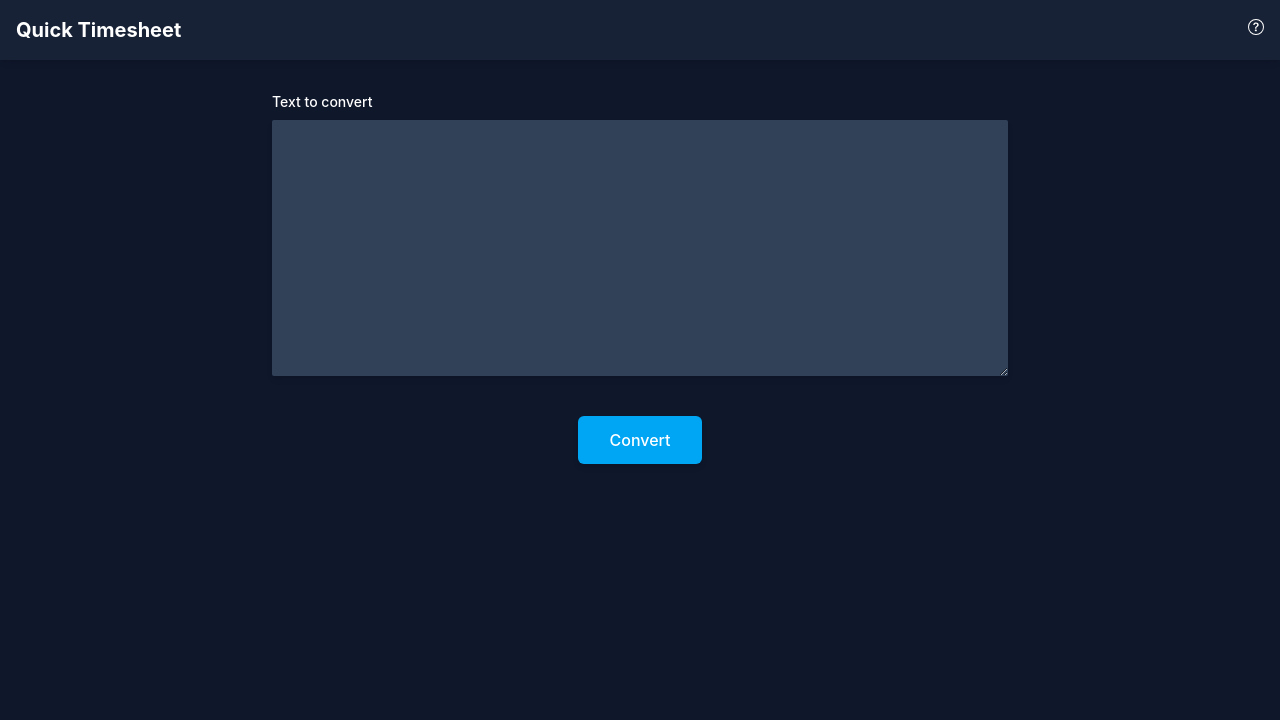
Test: converts text to timesheet table
Step 1. Click the text box labelled "Text to convert" → {"x": 640, "y": 248}, box [272,120,1008,376]
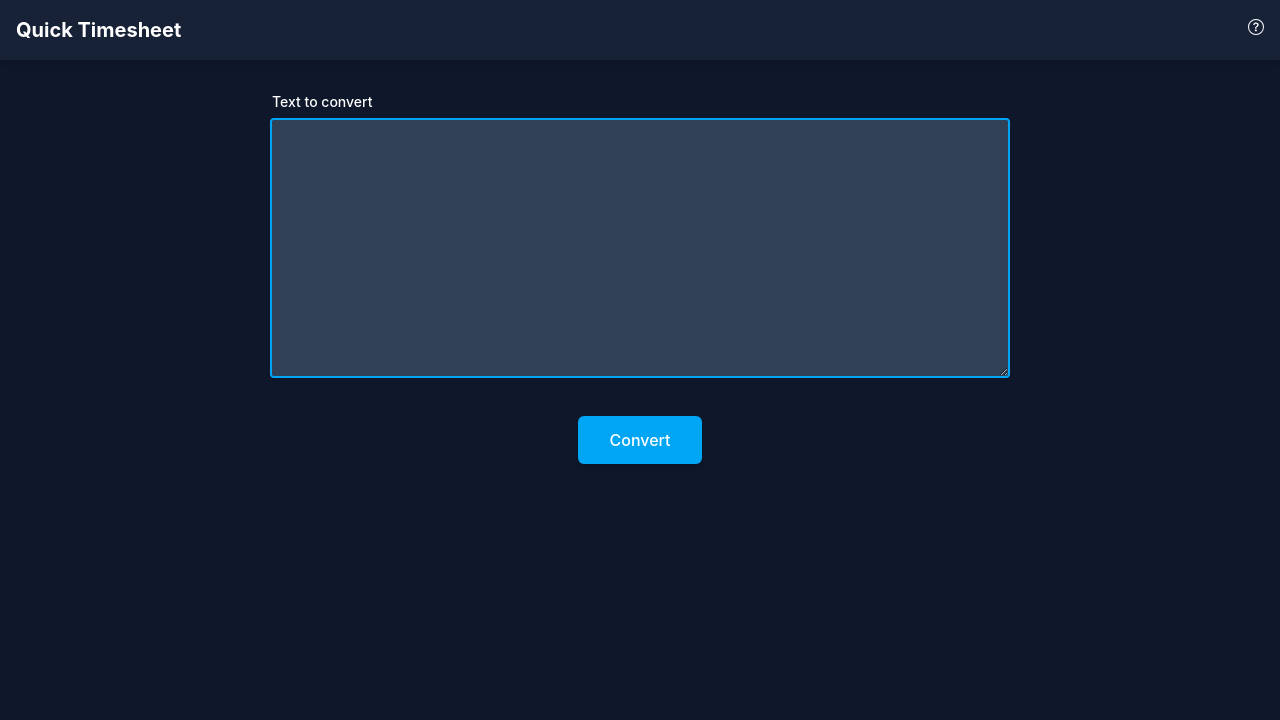
Step 2. Type keys "     29/04/2022     07:15-16:45   "
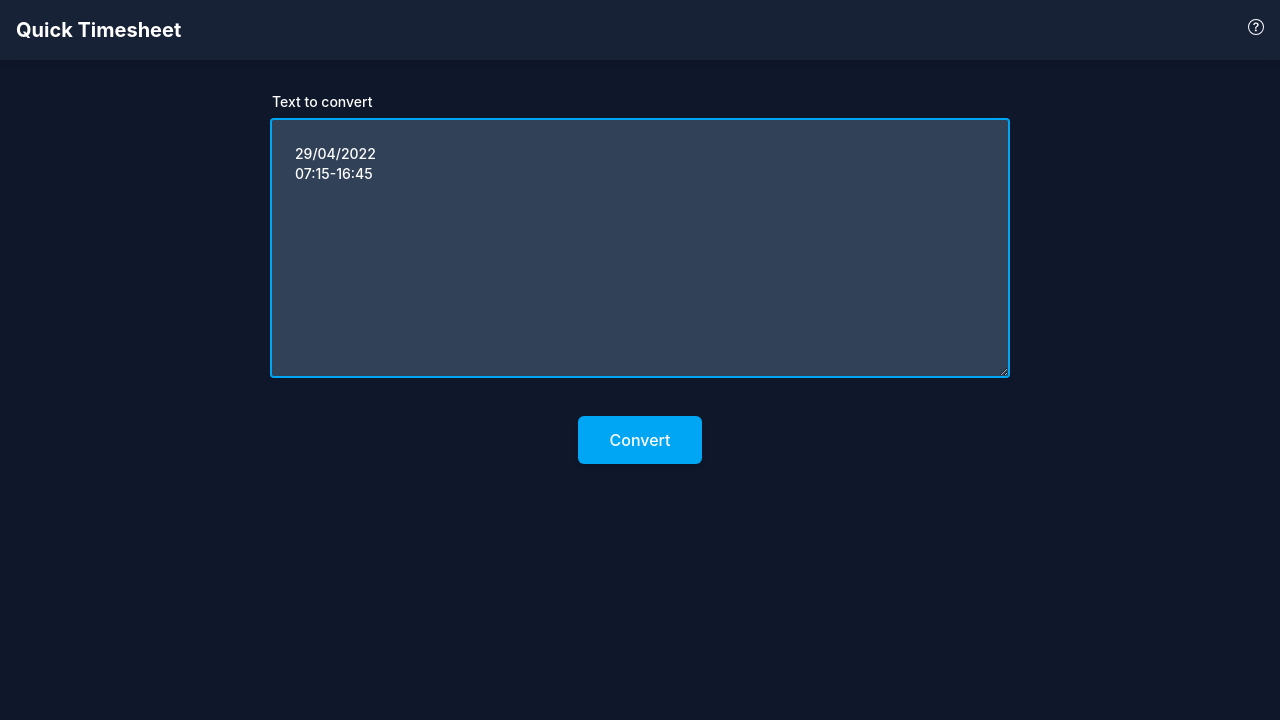
Check: the text box labelled "Text to convert" holds "     29/04/2022     07:15-16:45   ", box [272,120,1008,376]
Step 3. Click the button "Convert" → {"x": 640, "y": 440}, box [578,416,702,464]
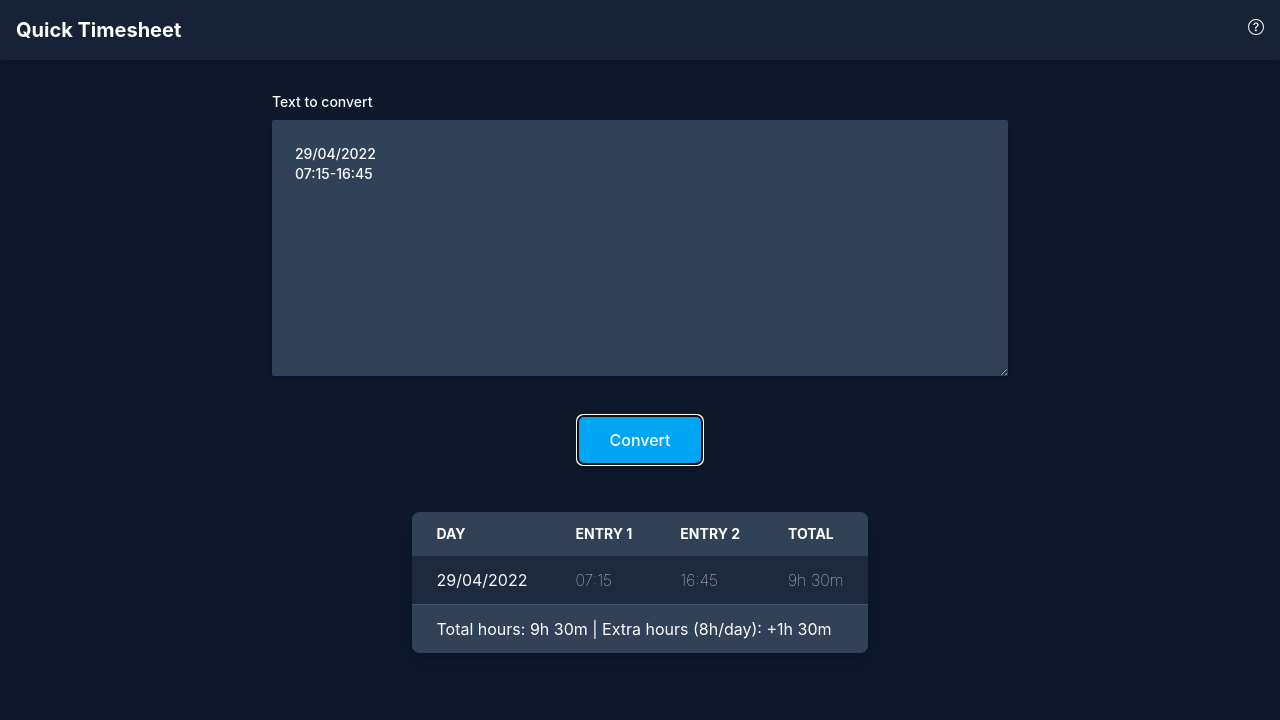
Check: the table is shown, box [412,512,868,653]
Check: the number of column headings is 4, box [412,512,552,556]; [552,512,656,556]; [656,512,764,556]; [764,512,868,556]
Check: the column heading "Day" is shown, box [412,512,552,556]
